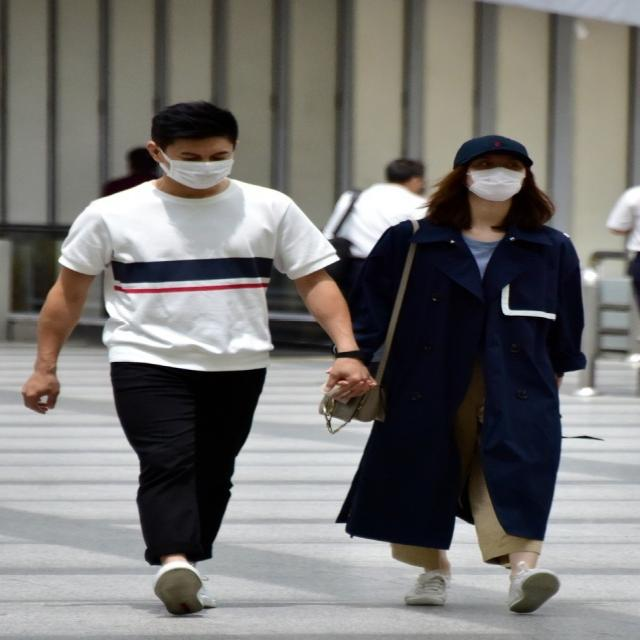mask: (165, 130, 233, 188), (468, 150, 522, 203)
